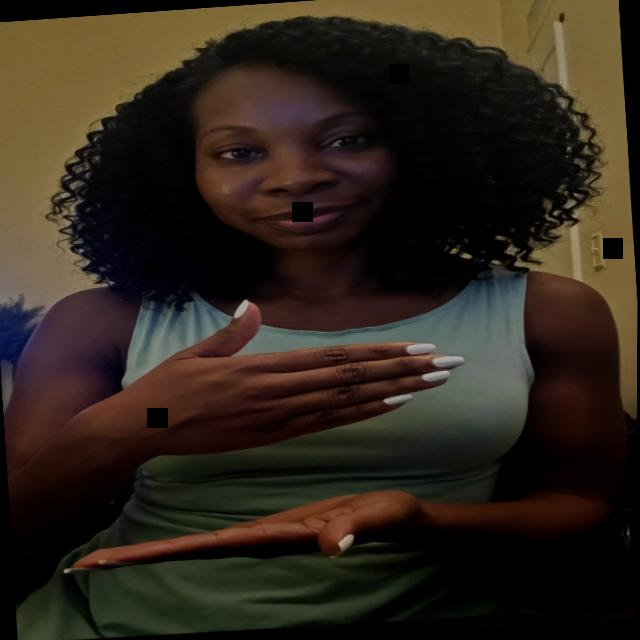Paper: (111, 284, 461, 476)
